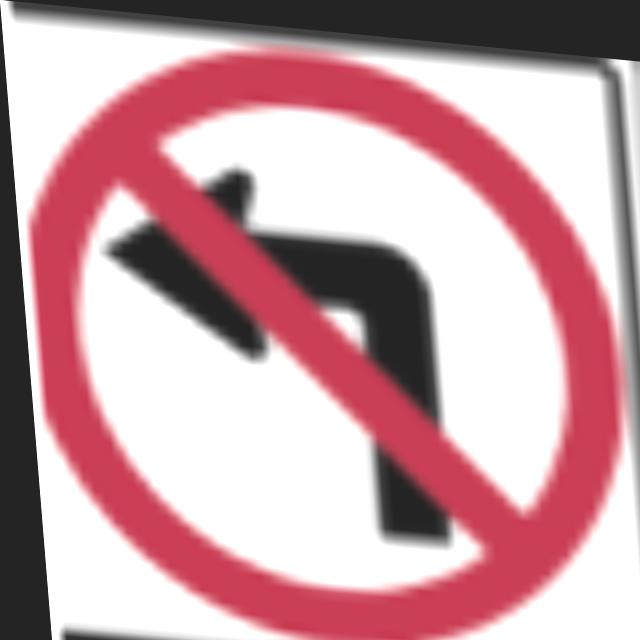not_turn_left: (2, 26, 640, 640)
